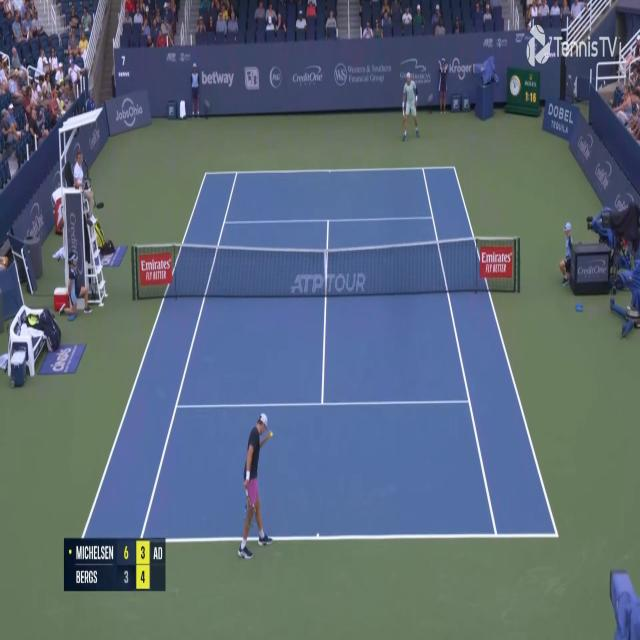tennis-player: (236, 408, 275, 564), (400, 72, 420, 142)
